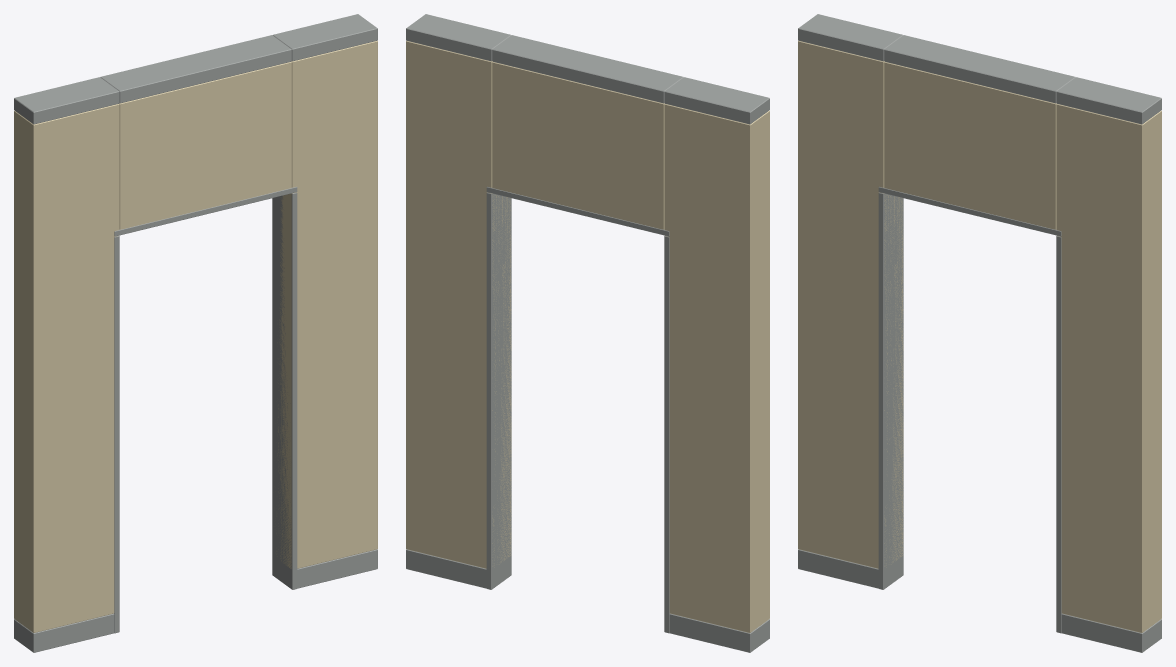
Rendered from b21_wall_door_opening_2m.glb.
The picture shows the model from 3 angles, left to right: view 1: azimuth 30°, elevation 25°; view 2: azimuth 150°, elevation 25°; view 3: azimuth 330°, elevation 25°; orthographic projection.
Visible parts, largest first — view 1: b21_wall_door_opening_2m; view 2: b21_wall_door_opening_2m; view 3: b21_wall_door_opening_2m.
Part boxes in pixels (x1=…): b21_wall_door_opening_2m: x1=14, y1=14, x2=377, y2=652; b21_wall_door_opening_2m: x1=406, y1=14, x2=769, y2=652; b21_wall_door_opening_2m: x1=798, y1=14, x2=1161, y2=652.
Bounding box in the file's own units: 2 × 3 × 0.204.
